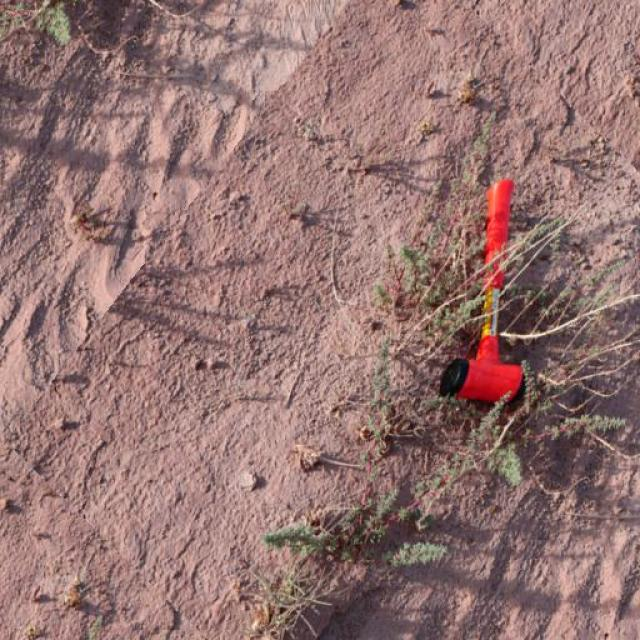mallet: (440, 176, 526, 404)
